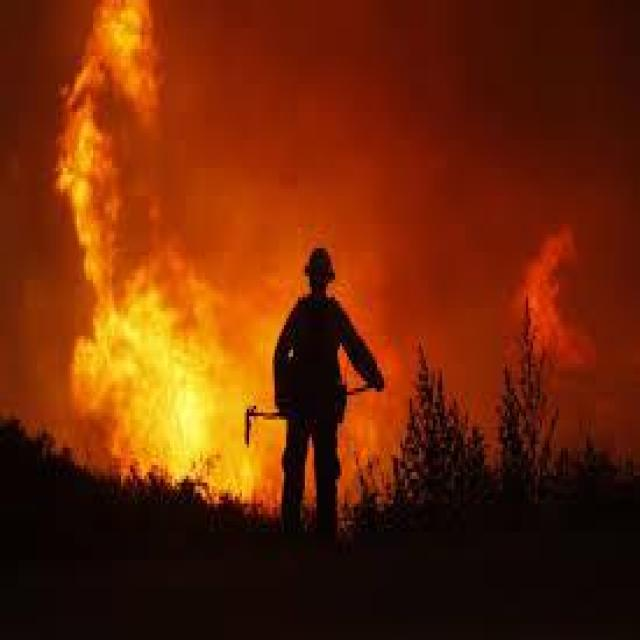fire: (40, 30, 258, 503)
smoke: (172, 24, 401, 266)
